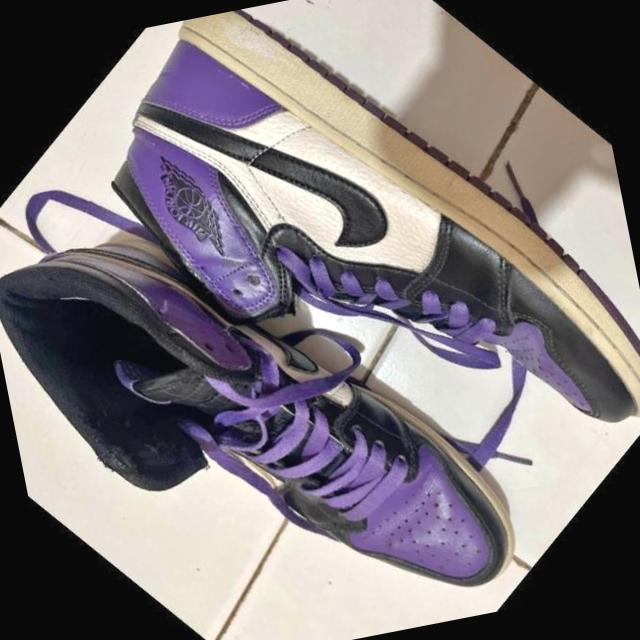nike_original_jordan: (37, 0, 640, 638), (0, 82, 559, 640)
